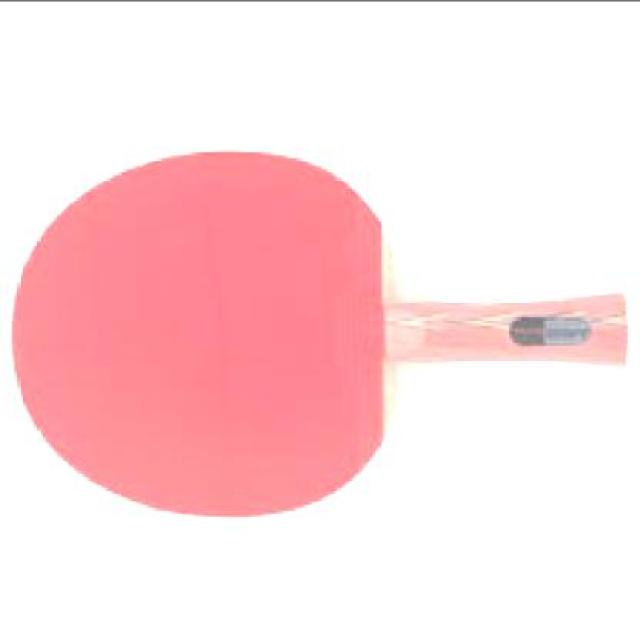table_tennis_racket: (11, 151, 635, 520)
